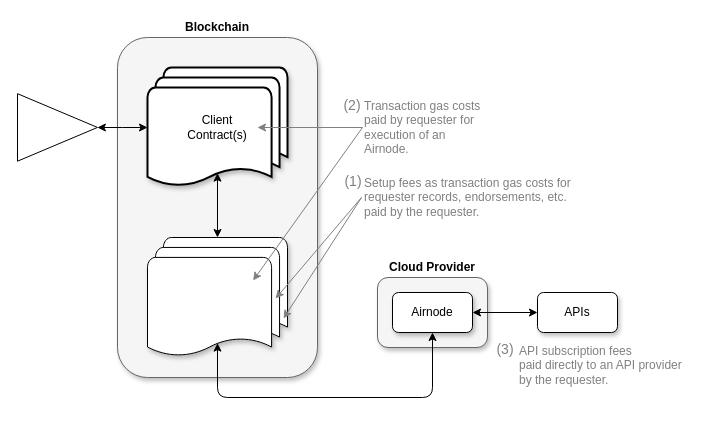
The diagram is 705 pixels wide and 424 high, and some of its shapes have lost their labels. The centre of each missing label's shape, as x and y in pixels:
"Airnode Protocol (AirnodeRRP.sol)" goes at (218,298).
"End user" goes at (57,127).
